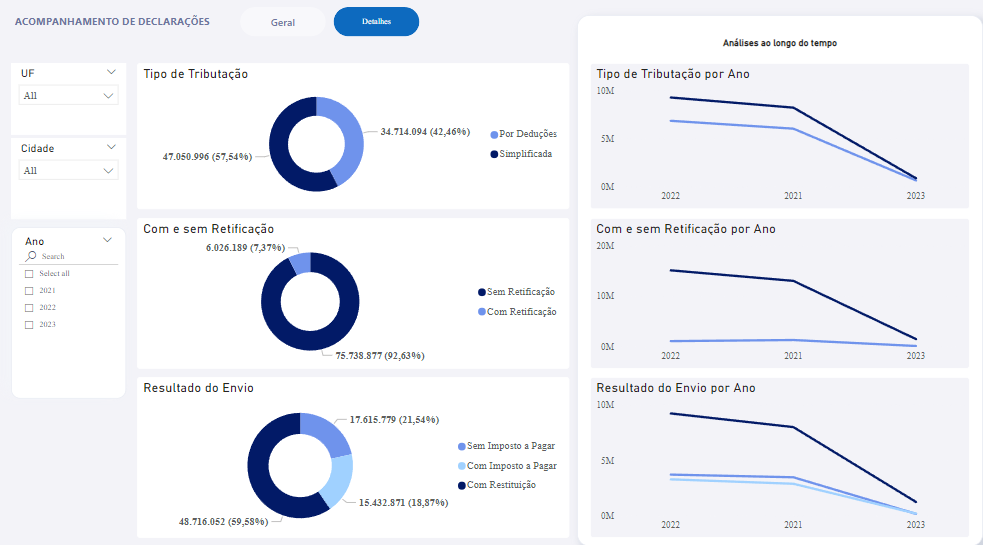

Layout of this report page (visuals, bound fields, positions):
{"tool":"powerbi","page":{"name":"Detalhes","canvas":[1280,720],"ordinal":1},"visuals":[{"type":"textbox","box":[765.4,45.3,491.3,28.4],"z":0,"group":"g1"},{"type":"shape","box":[748.6,22,524.9,686.5],"z":0},{"type":"donutChart","title":"Tipo de Tributação","fields":{"Y":["Medidas.11 Total Deducoes","Medidas.13 Total Simplificada"]},"box":[179.7,84,558.5,188.8],"z":1000},{"type":"donutChart","title":"Com e sem Retificação","fields":{"Y":["Medidas.15 Total Originais","Medidas.17 Total Retificadoras"]},"box":[179.7,284.4,558.5,195.2],"z":2000},{"type":"donutChart","title":"Resultado do Envio","fields":{"Y":["Medidas.19 Total Sem Imposto","Medidas.21 Total A Pagar","Medidas.23 Total A Restituir"]},"box":[179.7,490,558.5,208.2],"z":3000},{"type":"lineChart","title":"Tipo de Tributação por Ano","fields":{"Category":["dim_tempo.Ano"],"Y":["Medidas.11 Total Deducoes","Medidas.13 Total Simplificada"]},"box":[765.4,84,491.3,188.8],"z":4000},{"type":"lineChart","title":"Com e sem Retificação por Ano","fields":{"Category":["dim_tempo.Ano"],"Y":["Medidas.15 Total Originais","Medidas.17 Total Retificadoras"]},"box":[765.4,284.4,491.3,195.2],"z":5000},{"type":"lineChart","title":"Resultado do Envio por Ano","fields":{"Category":["dim_tempo.Ano"],"Y":["Medidas.19 Total Sem Imposto","Medidas.21 Total A Pagar","Medidas.23 Total A Restituir"]},"box":[765.4,490,491.3,208.2],"z":6000},{"type":"group","id":"g1","title":"Visual text 1","box":[765.4,45.3,491.3,28.4],"z":10000},{"type":"textbox","box":[16.8,15.5,276.7,29.7],"z":11000},{"type":"pageNavigator","box":[313.2,11.3,233.2,38.3],"z":11001},{"type":"slicer","fields":{"Values":["dim_uf.UF"]},"box":[16.8,84,148.7,93.1],"z":11002},{"type":"slicer","fields":{"Values":["dim_cidade.Cidade"]},"box":[16.8,181,148.7,104.7],"z":11003},{"type":"slicer","fields":{"Values":["dim_tempo.Ano"]},"box":[16.8,296.1,148.7,222.4],"z":11004}]}

Visuals, with their boxes in screenshot pixels (x1, y1, x2, y2), scaled from the page's 1280x720 canvas onto the 983x545 screenshot:
textbox: rect(588, 34, 965, 56)
shape: rect(575, 17, 978, 536)
"Tipo de Tributação" donutChart: rect(138, 64, 567, 206)
"Com e sem Retificação" donutChart: rect(138, 215, 567, 363)
"Resultado do Envio" donutChart: rect(138, 371, 567, 528)
"Tipo de Tributação por Ano" lineChart: rect(588, 64, 965, 206)
"Com e sem Retificação por Ano" lineChart: rect(588, 215, 965, 363)
"Resultado do Envio por Ano" lineChart: rect(588, 371, 965, 528)
"Visual text 1" group: rect(588, 34, 965, 56)
textbox: rect(13, 12, 225, 34)
pageNavigator: rect(241, 9, 420, 38)
slicer - dim_uf.UF: rect(13, 64, 127, 134)
slicer - dim_cidade.Cidade: rect(13, 137, 127, 216)
slicer - dim_tempo.Ano: rect(13, 224, 127, 392)
